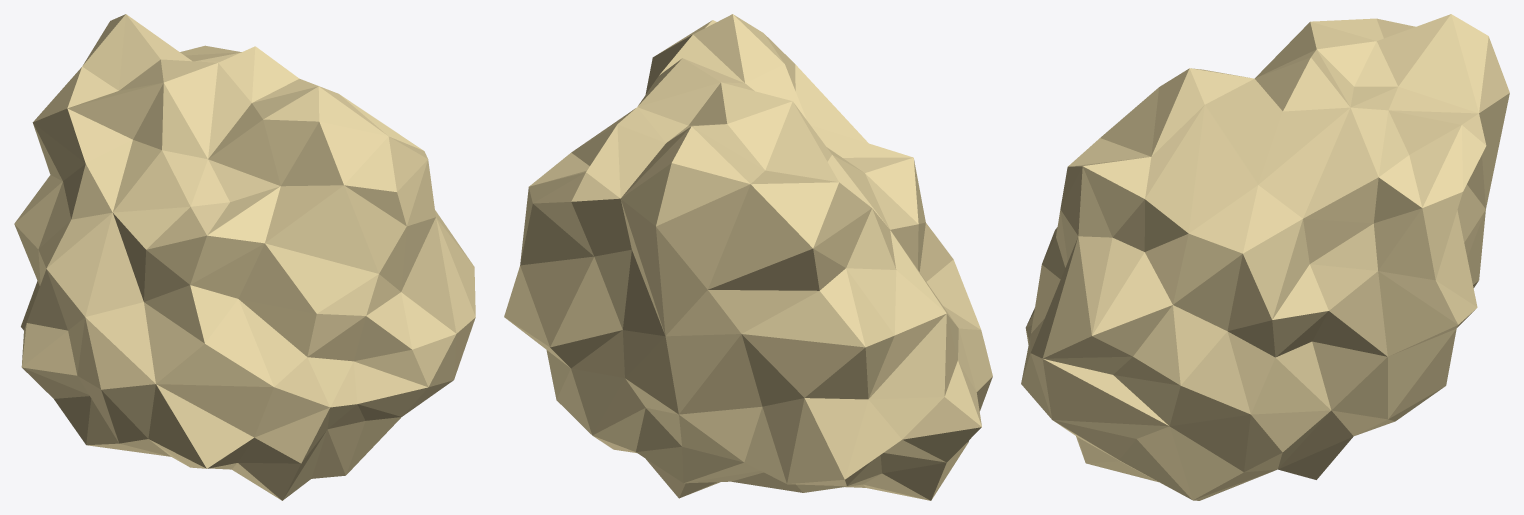
Rendered from Asteroid (76).fbx.
The picture shows the model from 3 angles, left to right: view 1: azimuth 30°, elevation 25°; view 2: azimuth 150°, elevation 25°; view 3: azimuth 270°, elevation 25°; orthographic projection. The views are drawn at different scales.
Parts seen in each view (by area): view 1: Asteroid195; view 2: Asteroid195; view 3: Asteroid195.
Boxes of the visible parts, <box> form: Asteroid195: <box>14,14,475,500</box>; Asteroid195: <box>504,14,992,500</box>; Asteroid195: <box>1021,14,1509,500</box>.
Bounding box in the file's own units: 397 × 386 × 399.
